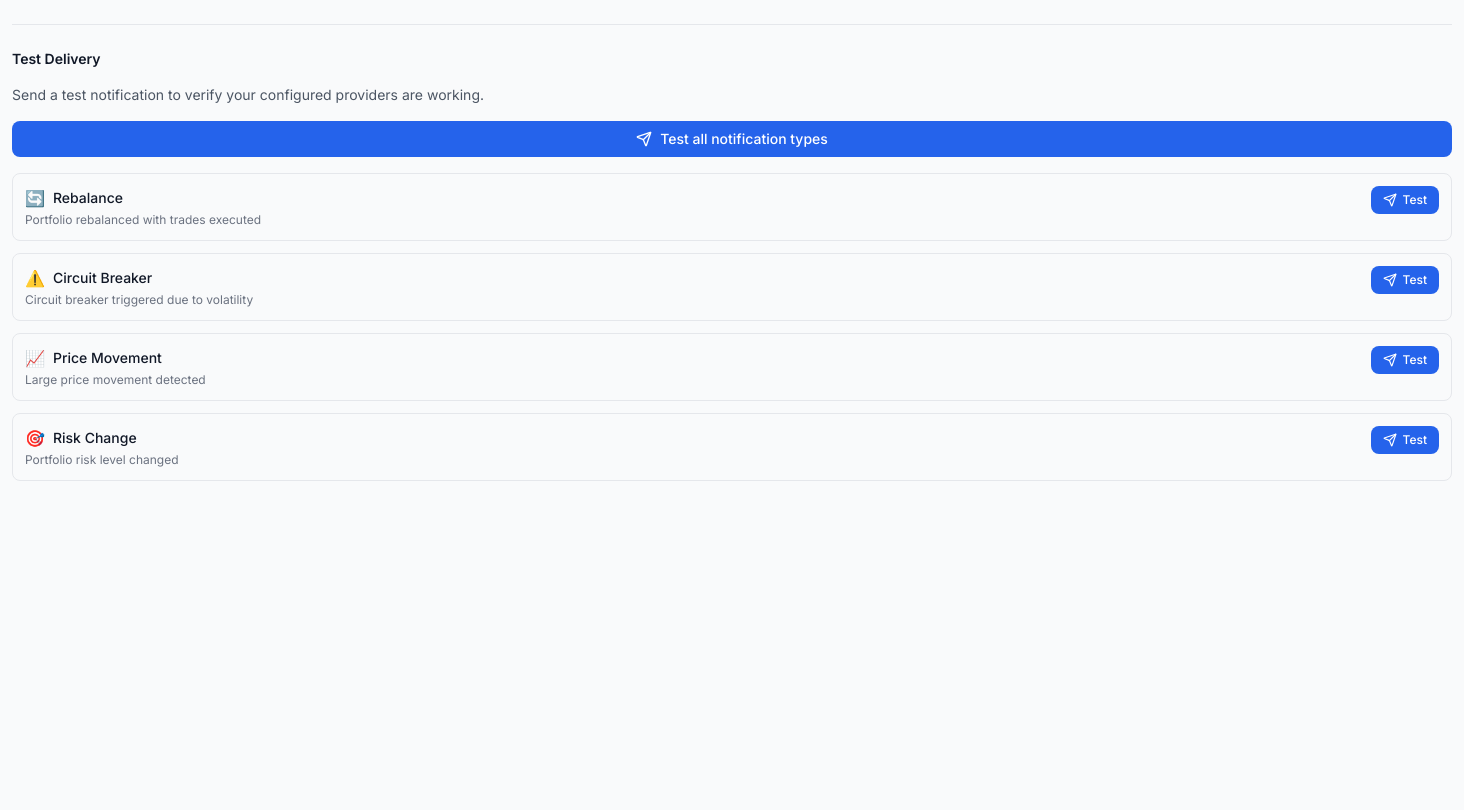
Test: NotificationTest › clears mutation banners and result cards when clearing results
Click the button with aria-label "test rebalance": (1405, 200) [1370,186,1439,214]
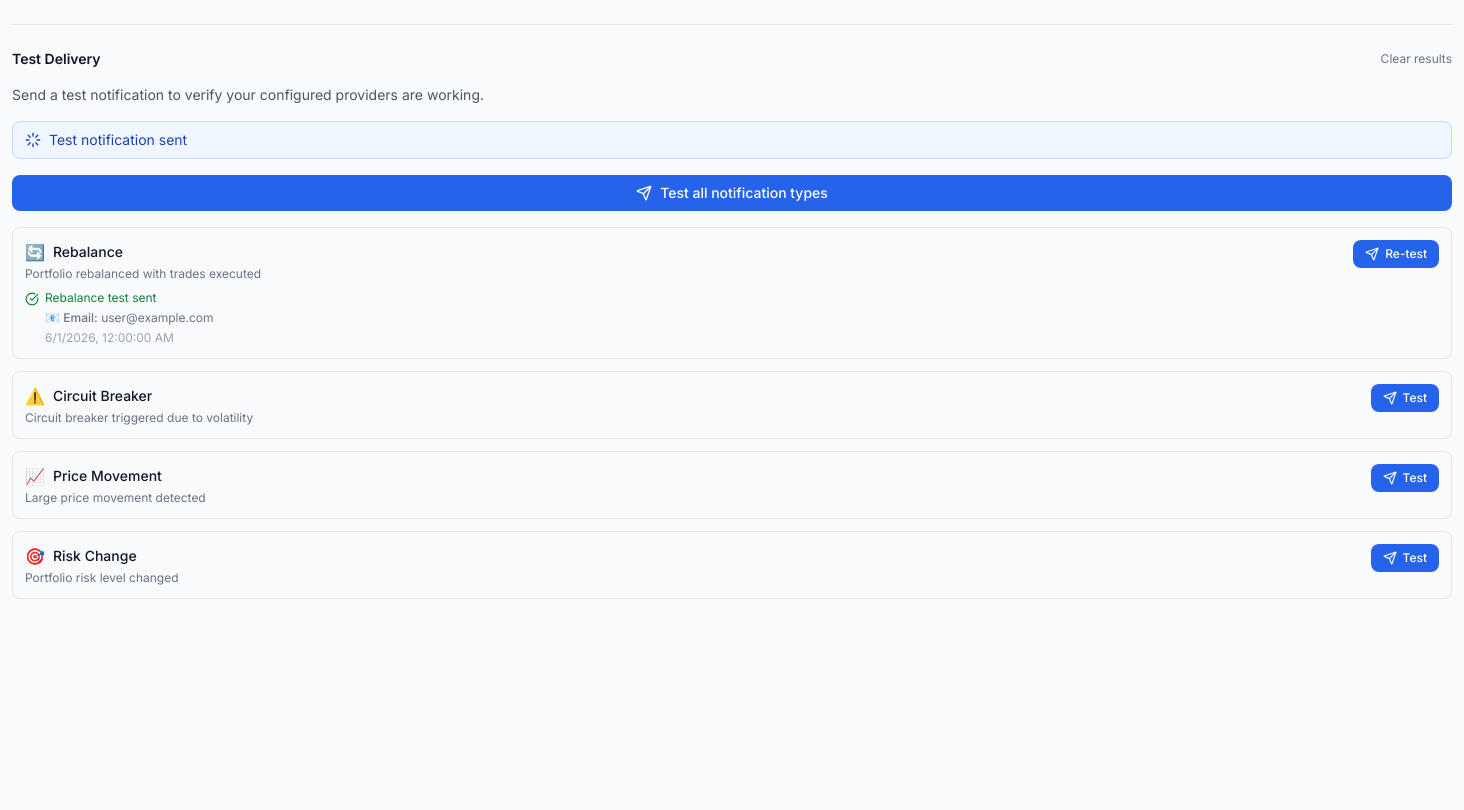
Expected: the text "Rebalance test sent" is shown, [45,290,156,306]
Expected: the text "Test notification sent" is shown, [49,130,187,150]
Click the button with aria-label "clear all test results": (1416, 59) [1381,51,1452,67]
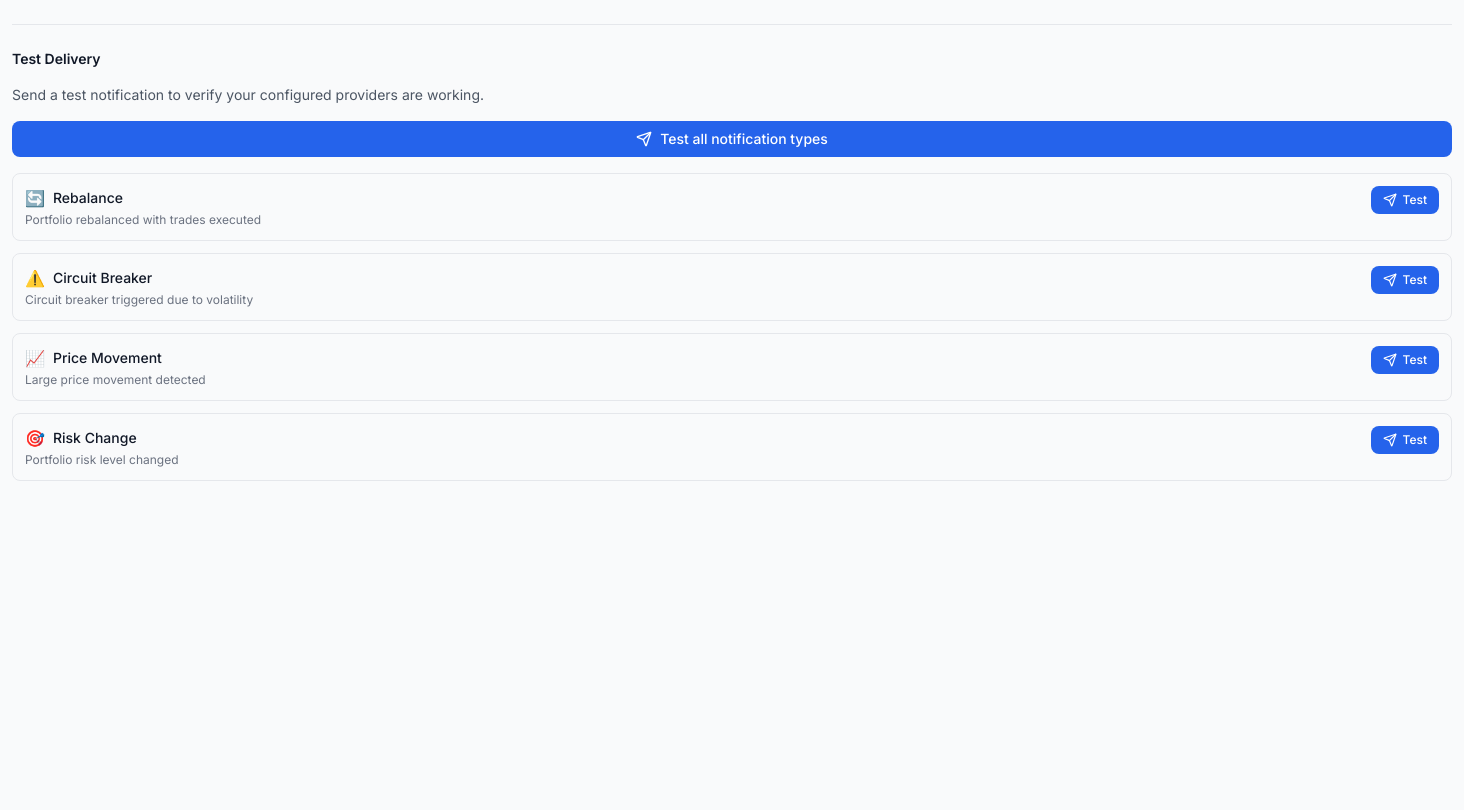
Expected: the text "Rebalance test sent" is gone
Expected: the text "Test notification sent" is gone
